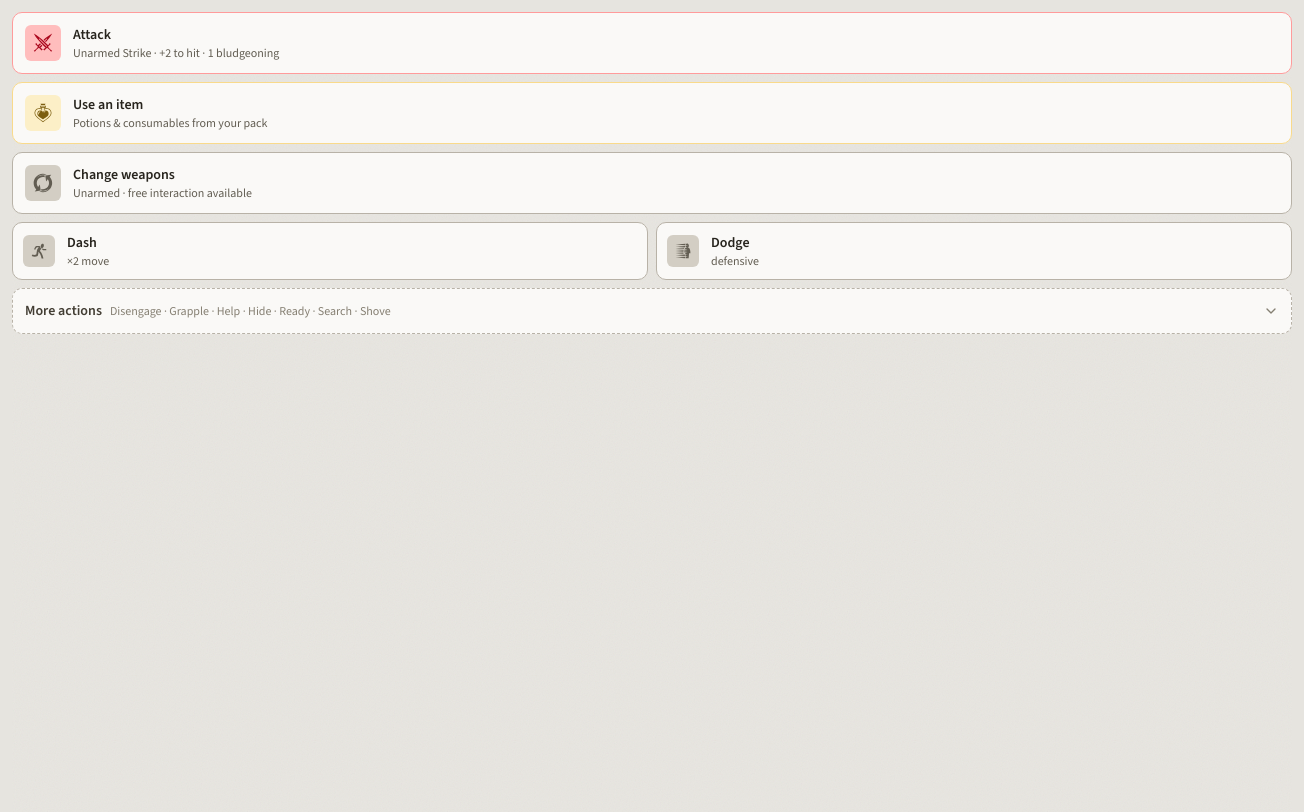
it: ActionSheetBody — the More-actions grid follows the served rows (#1430) › 2014: seven tiles, no Study or Influence
This screenshot has width=1304, height=812.
Expected: the text "Disengage · Grapple · Help · Hide · Ready · Search · Shove" is shown, [110,303,391,319]
Click the button "More actions": (63, 310) [12,288,1292,334]
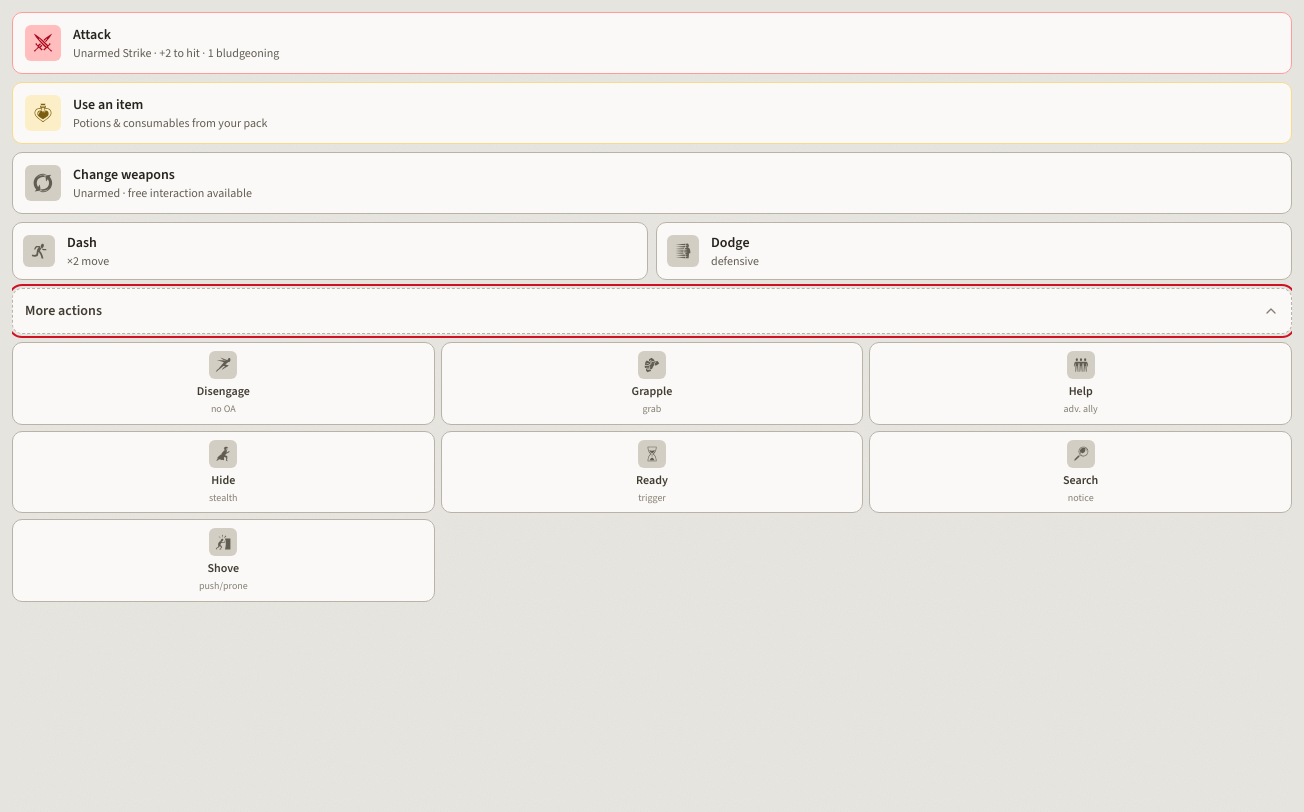
Expected: the button "Grapple grab" is shown, [441,342,863,424]
